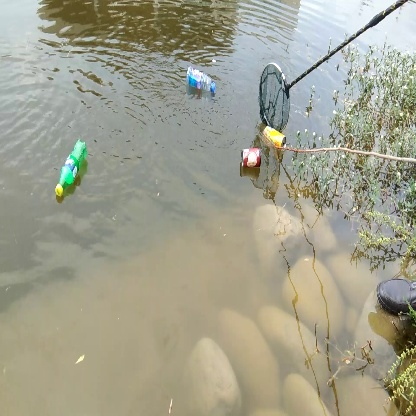bottle: (53, 138, 91, 202), (183, 65, 218, 97), (259, 124, 289, 150), (241, 144, 263, 171)
